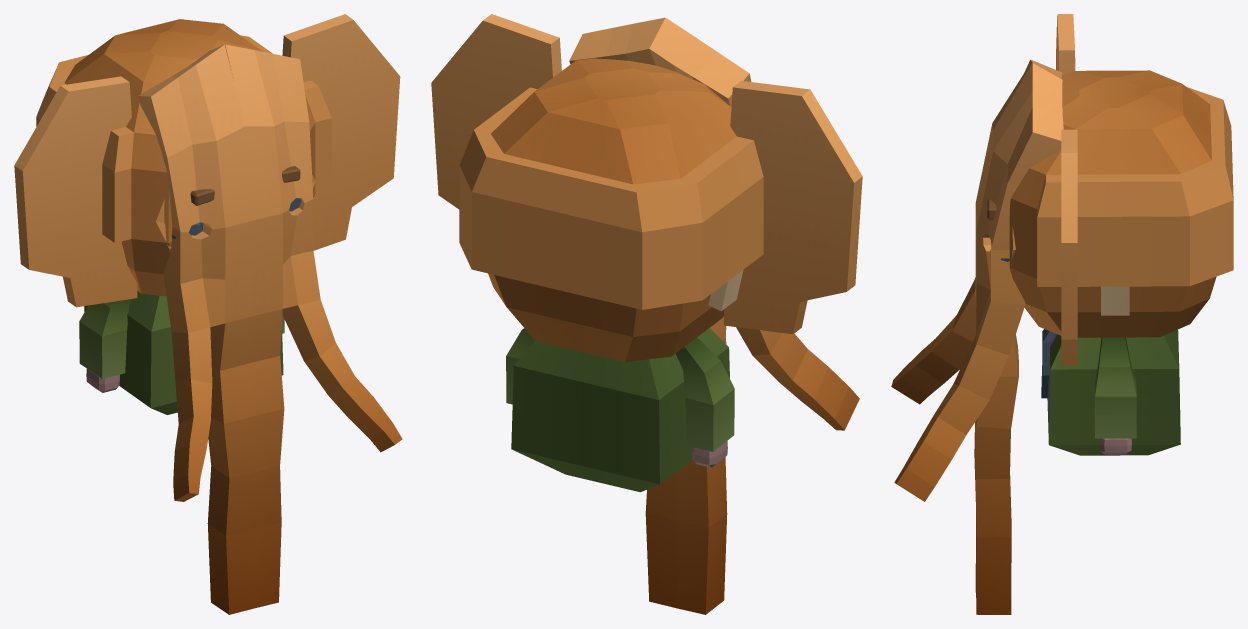
The model's file is animated-characters.glb.
3 views of the same model, side by side, from view 1: azimuth 30°, elevation 25°; view 2: azimuth 150°, elevation 25°; view 3: azimuth 270°, elevation 25° (orthographic). The views are drawn at different scales.
Parts seen in each view (by area): view 1: Cube.014; view 2: Cube.014; view 3: Cube.014.
Part boxes in pixels (left/top/right/bottom): Cube.014: left=14, top=14, right=402, bottom=614; Cube.014: left=431, top=14, right=862, bottom=614; Cube.014: left=891, top=14, right=1233, bottom=614.
Size of the model in its own units: 3.36 by 4.58 by 2.64.
Materials: 1 (1 with a texture image).
